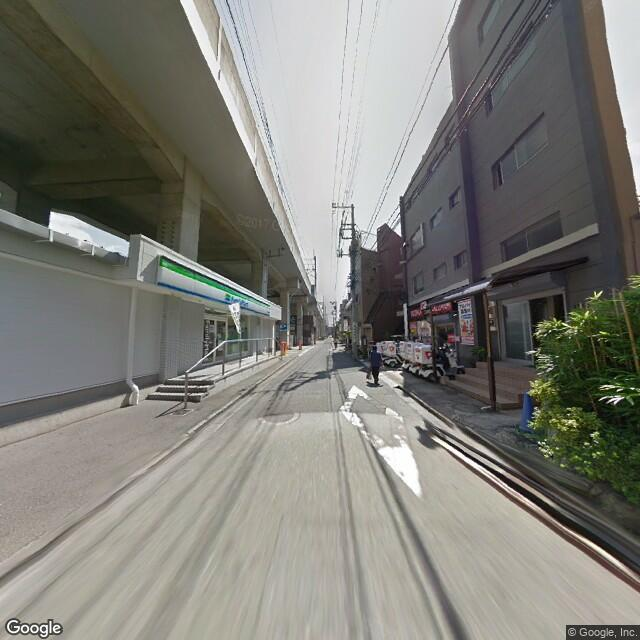family_mart: (156, 254, 272, 324)
